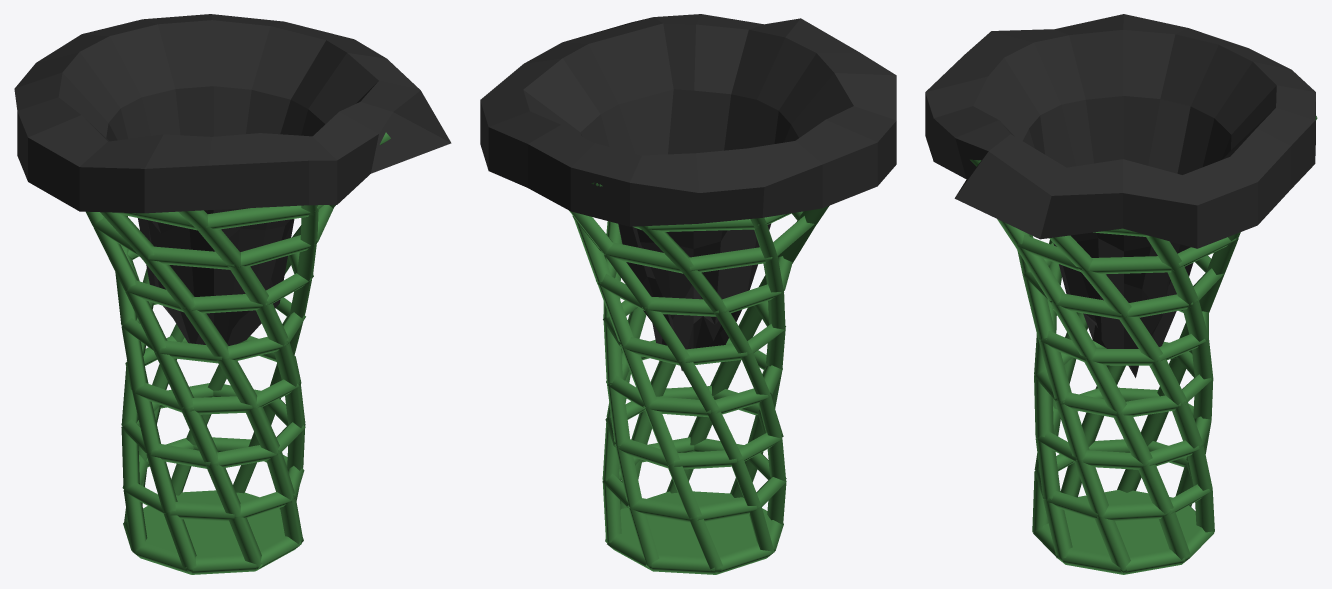
The model's file is trash.fbx.
The picture shows the model from 3 angles, left to right: view 1: azimuth 30°, elevation 25°; view 2: azimuth 150°, elevation 25°; view 3: azimuth 270°, elevation 25°; orthographic projection. The views are drawn at different scales.
Parts seen in each view (by area): view 1: Landscape, Cylinder, Disc; view 2: Landscape, Cylinder, Disc; view 3: Landscape, Cylinder, Disc.
Boxes of the visible parts, left/top/right/bottom form: Landscape: left=14, top=14, right=451, bottom=345; Cylinder: left=86, top=132, right=390, bottom=574; Disc: left=143, top=490, right=287, bottom=557; Landscape: left=480, top=14, right=896, bottom=370; Cylinder: left=569, top=182, right=829, bottom=574; Disc: left=617, top=491, right=773, bottom=557; Landscape: left=925, top=14, right=1315, bottom=377; Cylinder: left=970, top=115, right=1317, bottom=574; Disc: left=1043, top=490, right=1201, bottom=557.
Size of the model in its own units: 89.93 by 109 by 85.93.
